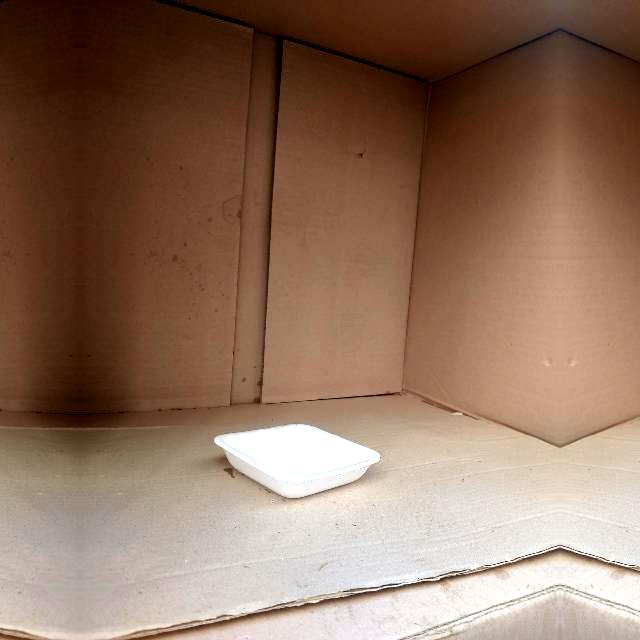Styrofoam: (214, 422, 380, 498), (214, 425, 380, 499)
